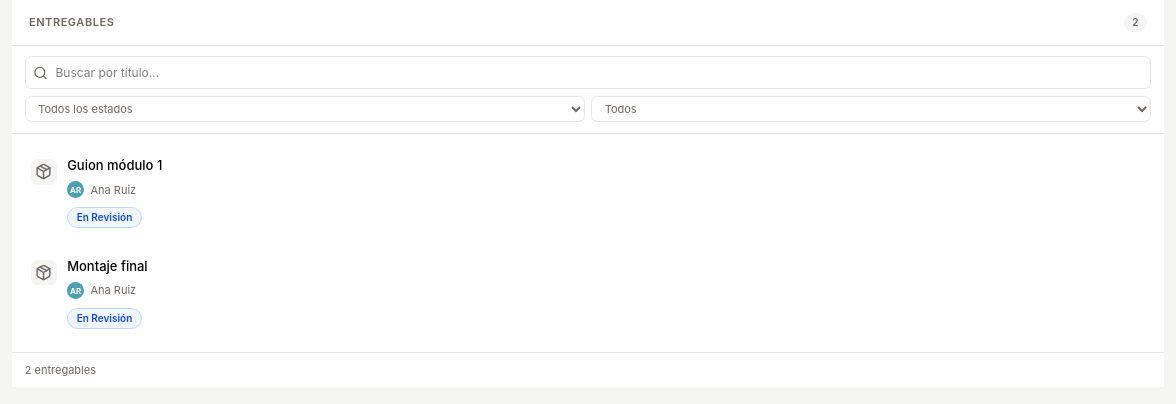
Test: DeliverableList — filtro y paginación › filtra la lista por texto
expect the text "Guion módulo 1" is shown: met, box [67,157,162,173]
expect the text "Montaje final" is shown: met, box [67,258,148,274]
Type "montaje" into the field with placeholder "Buscar por título…" at (588, 73), box [25,56,1151,89]
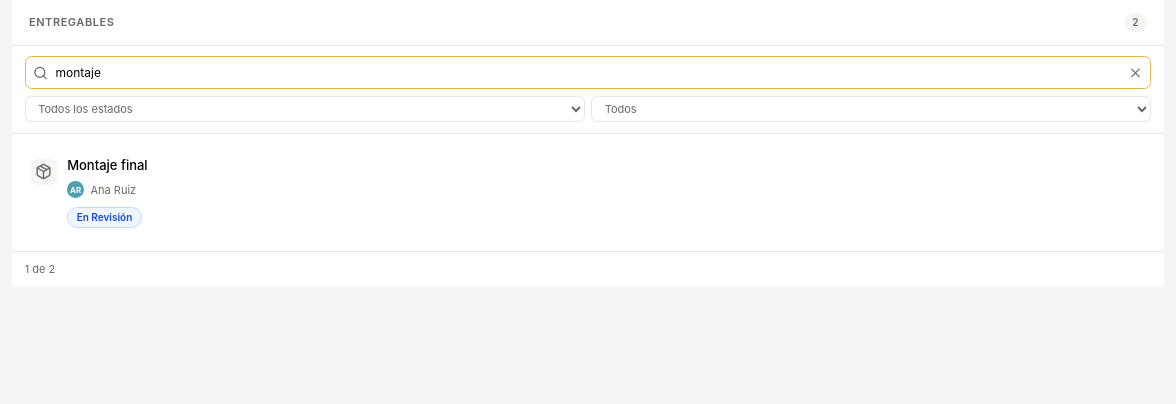
expect the text "Montaje final" is shown: met, box [67,157,148,173]
expect the button "Guion módulo 1" is gone: met
